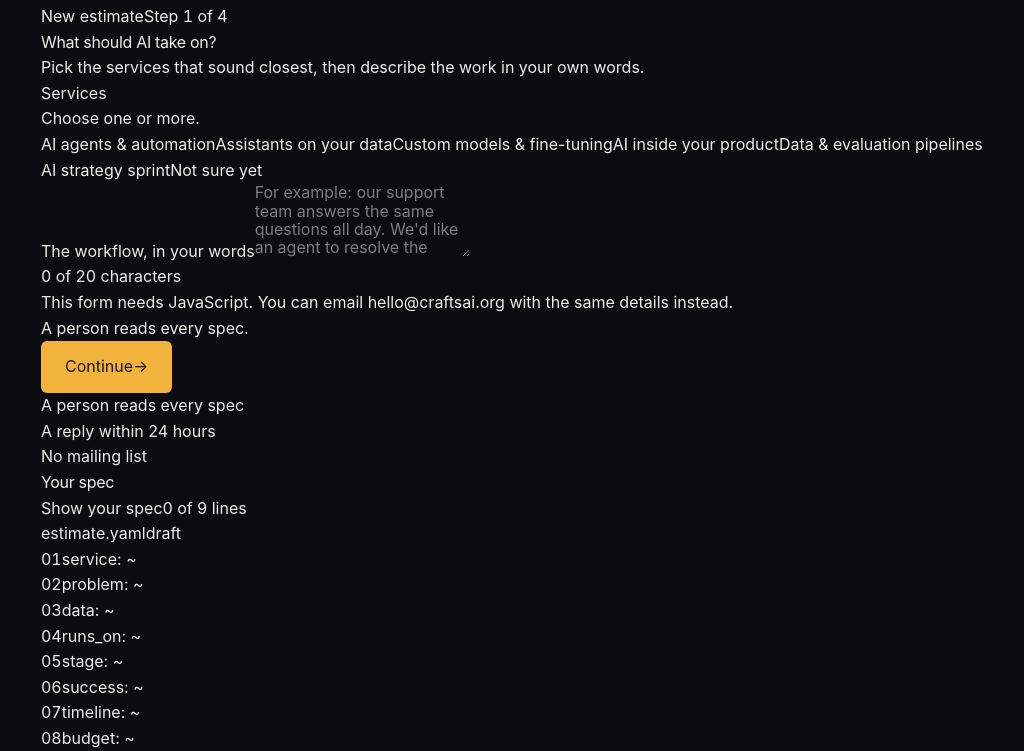
QuoteWizard › shows the pipeline with the first step current and blocks an empty continue
(page scrolled)
Expected: the heading "What should AI take on?" is shown, x1=41 y1=32 x2=216 y2=52
Click the button "Continue →" at (107, 367), box x1=41 y1=341 x2=172 y2=393
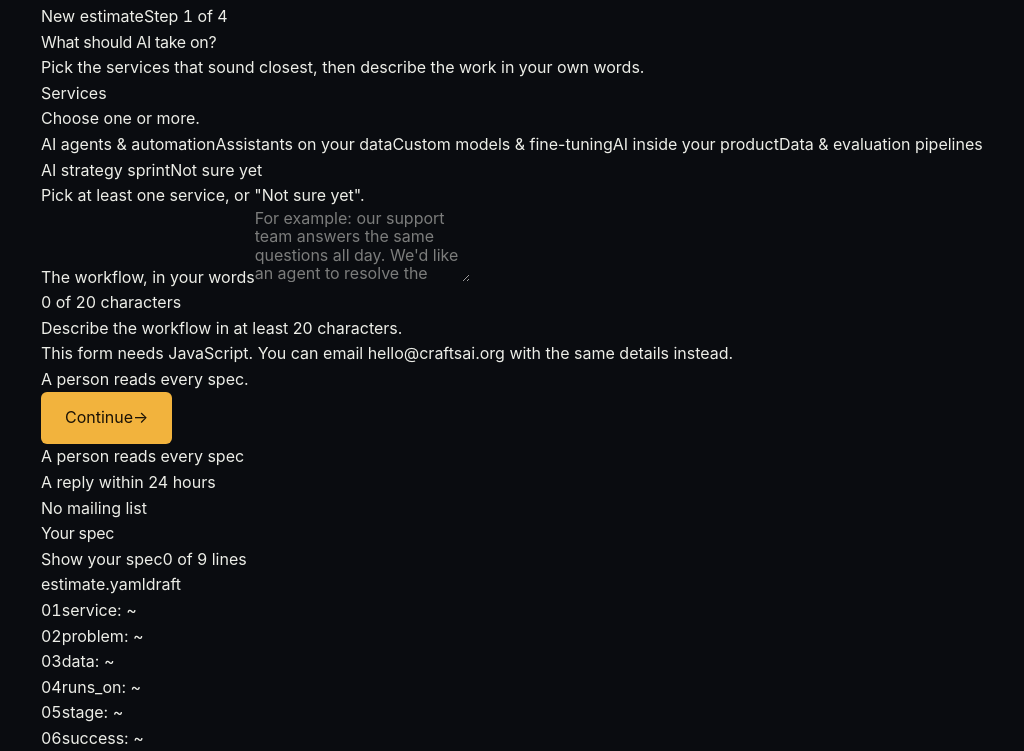
Expected: the heading "What should AI take on?" is shown, x1=41 y1=32 x2=216 y2=52
Result: the text "Pick at least one service, or \"Not sure yet\"." is shown at x1=41 y1=185 x2=365 y2=205
Result: the text "Describe the workflow in at least 20 characters." is shown at x1=41 y1=318 x2=402 y2=338
